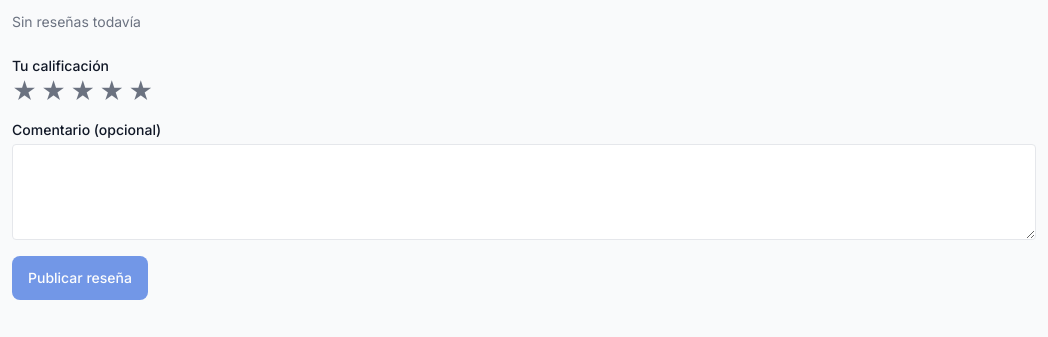
Test: ReviewsDataContainer — ciclo de submit (AC-1/AC-2/AC-5/AC-6/AC-9) › 422 (calificación fuera de rango real): mapea a `fieldError`, el formulario sigue visible (AC-9)
This screenshot has width=1048, height=337.
Click the radio button named "3 de 5 estrellas" at (83, 92), box left=70, top=80, right=95, bottom=104
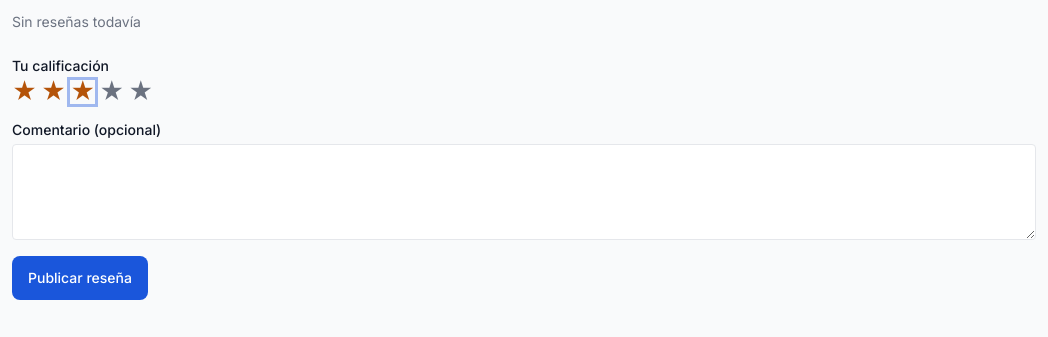
Click the button "Publicar reseña" at (80, 278), box left=12, top=256, right=148, bottom=300
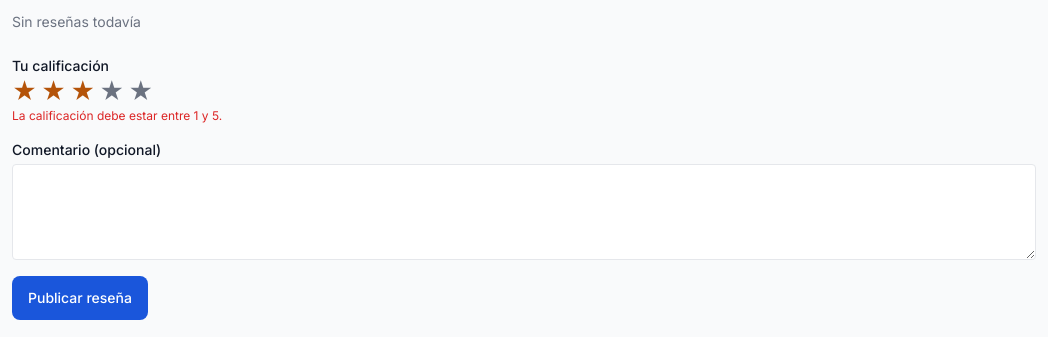
Expected: the element showing "★ ★ ★ ★ ★" is shown, left=12, top=80, right=153, bottom=104
Expected: the text "La calificación debe estar entre 1 y 5." is shown, left=12, top=108, right=222, bottom=123
